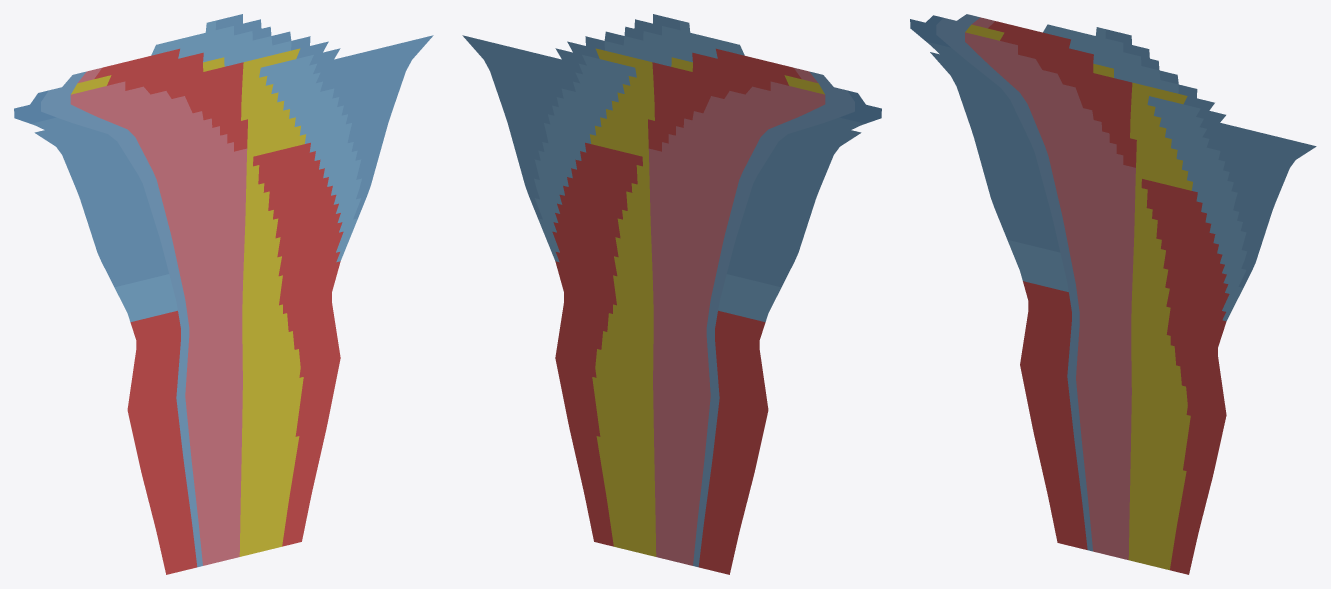
Rendered from leg_flat_2d.obj.
3 views of the same model, side by side, from view 1: azimuth 30°, elevation 25°; view 2: azimuth 150°, elevation 25°; view 3: azimuth 330°, elevation 25° (orthographic). The views are drawn at different scales.
Parts seen in each view (by area): view 1: L4, S1, L5, L2, L3, S2, L1; view 2: L4, S1, L5, L2, L3, S2, L1; view 3: L4, S1, L5, L2, L3, S2, L1.
Part boxes in pixels (left/top/right/bottom): L4: left=94, top=48, right=343, bottom=574; S1: left=70, top=68, right=247, bottom=565; L5: left=71, top=48, right=306, bottom=556; L2: left=31, top=14, right=433, bottom=287; L3: left=114, top=20, right=361, bottom=322; S2: left=41, top=71, right=202, bottom=567; L1: left=14, top=90, right=56, bottom=123; L4: left=552, top=48, right=801, bottom=574; S1: left=648, top=68, right=825, bottom=565; L5: left=589, top=48, right=824, bottom=556; L2: left=462, top=14, right=864, bottom=287; L3: left=534, top=20, right=781, bottom=322; S2: left=693, top=71, right=854, bottom=567; L1: left=839, top=90, right=881, bottom=123; L4: left=988, top=21, right=1229, bottom=574; S1: left=965, top=17, right=1135, bottom=559; L5: left=965, top=24, right=1192, bottom=570; L2: left=926, top=29, right=1316, bottom=287; L3: left=1007, top=24, right=1246, bottom=321; S2: left=936, top=14, right=1092, bottom=551; L1: left=910, top=15, right=950, bottom=47.
Size of the model in its own units: 0.6807 by 0.84 by 0.
